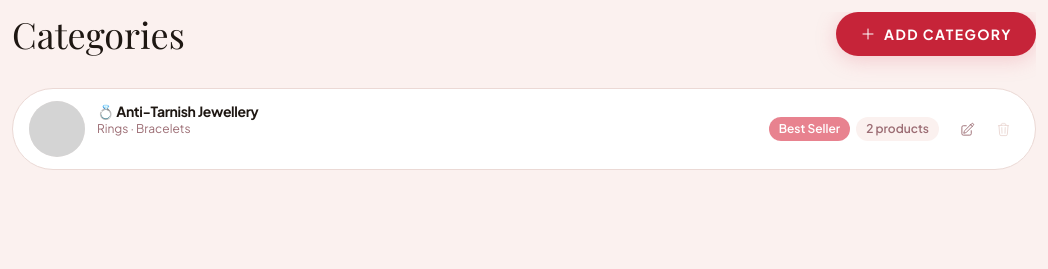
Scenario: CategoryManager › blocks deleting a category still assigned to products and lists them by name with edit links
Click the button named "can't delete anti-tarnish jewellery" at (1003, 129), box [987,113,1019,145]
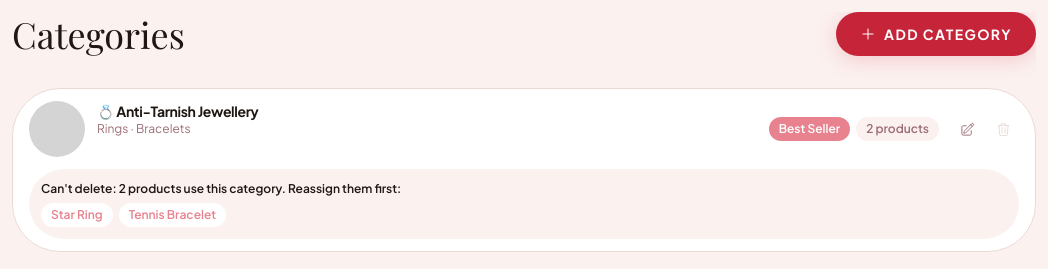
Expected: the text "Can't delete" is shown, [41,181,119,196]
